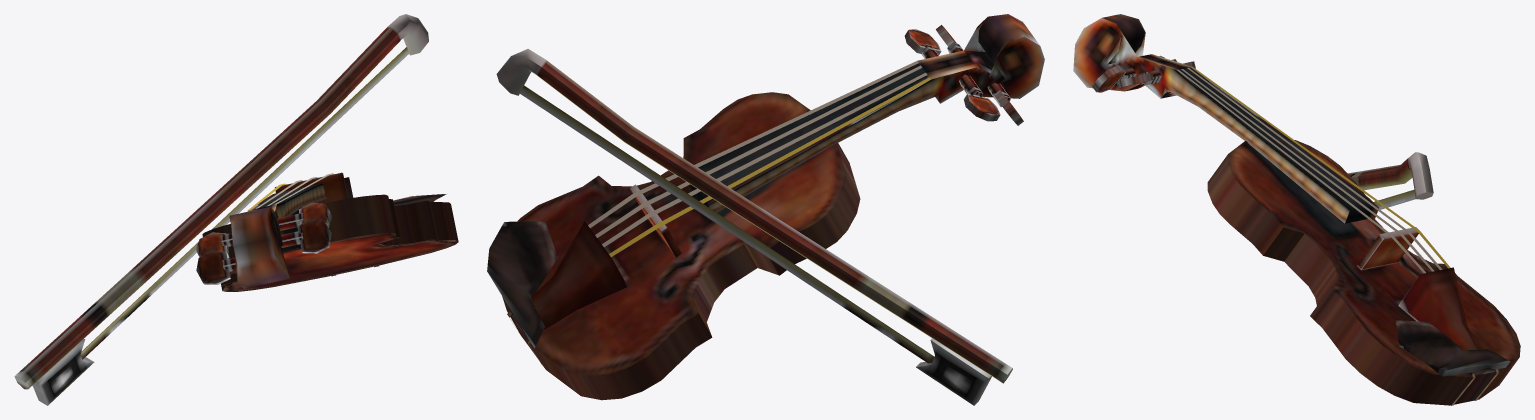
The model's file is CORDA.ICO.obj.
3 views of the same model, side by side, from view 1: azimuth 30°, elevation 25°; view 2: azimuth 150°, elevation 25°; view 3: azimuth 270°, elevation 25° (orthographic). The views are drawn at different scales.
Bounding box in the file's own units: 4.95 × 2.89 × 4.22.
1 material, 1 textured.
